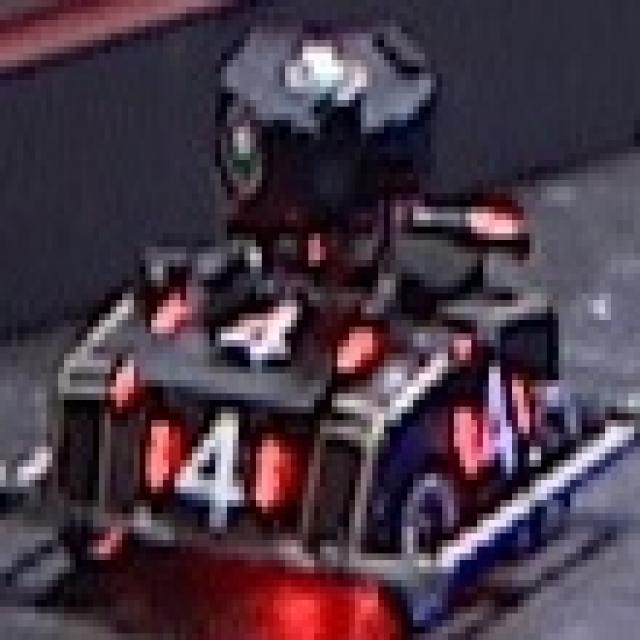R4: (134, 280, 384, 387), (140, 396, 302, 536), (434, 353, 538, 480)
